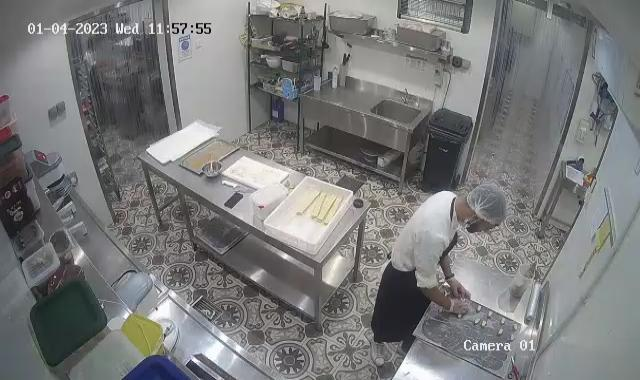hairnet: (464, 181, 509, 225)
